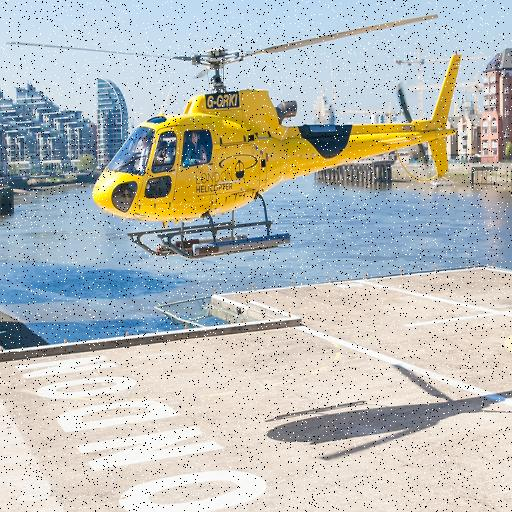helicopter: (6, 16, 462, 260)
